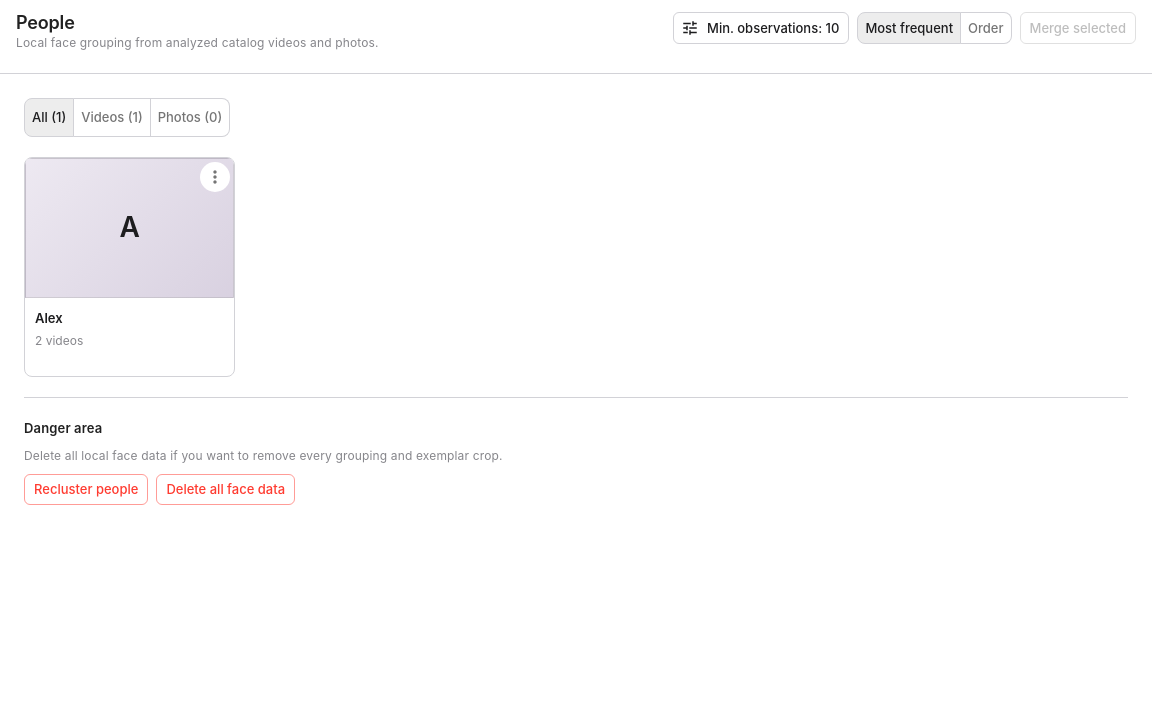
Scenario: PeopleView › opens the hide dialog with shared-file copy and skip off by default
The width and height of the screenshot is (1152, 720).
Check: the element with test id "people-grid" is shown, box [24,157,235,377]
Click the button named "More actions for Alex". click: [215, 177]
box: [200,162,230,192]
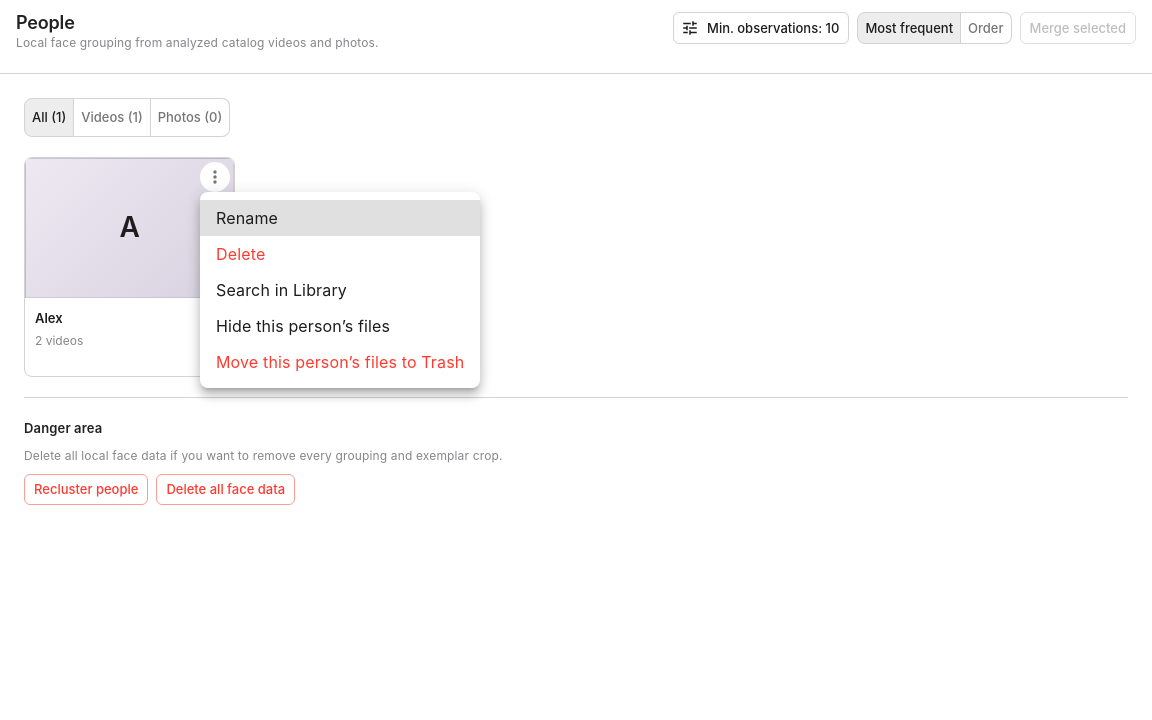
Click the menu item with test id "people-hide-files". click: [303, 326]
box: [216,316,390,336]
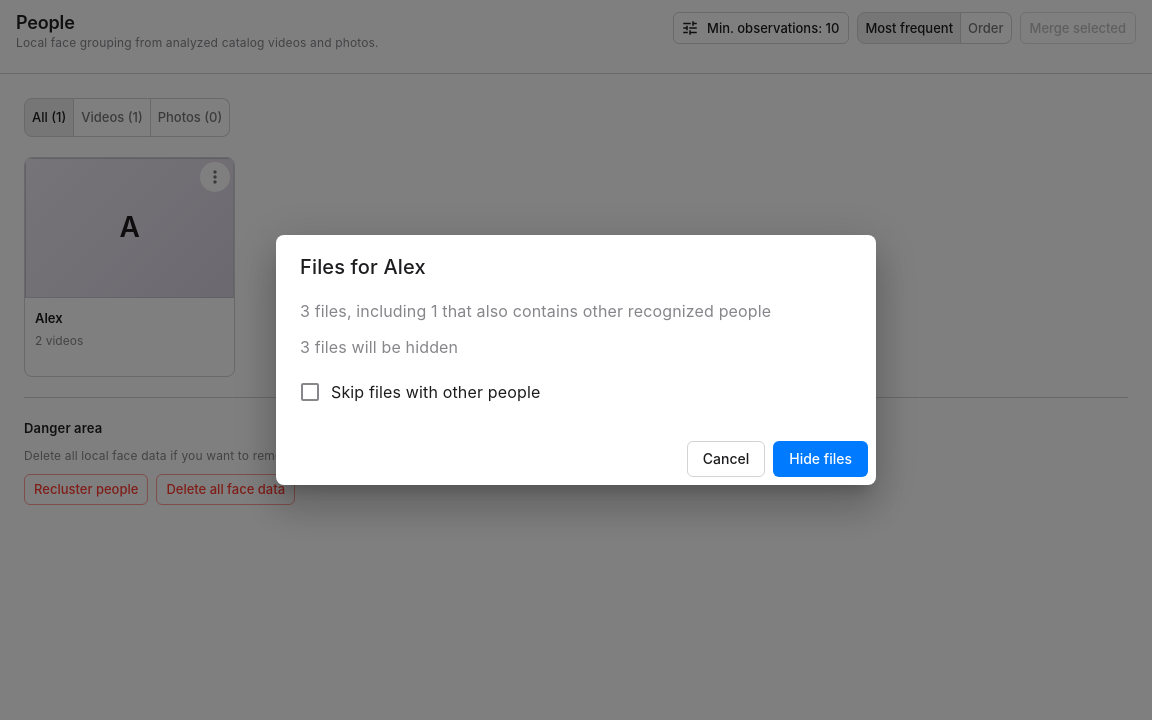
Check: the text with test id "people-library-action-summary" reads "3 files, including 1 that also contains other recognized people", box [300,301,771,321]
Check: the text with test id "people-library-action-scope" reads "3 files will be hidden", box [300,337,458,357]
Check: the checkbox labelled "Skip files with other people" is not checked, box [298,380,540,404]
